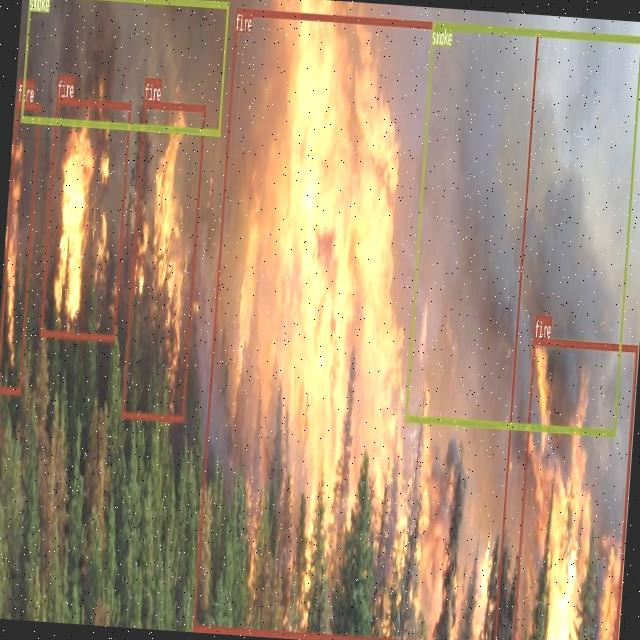fire: (192, 7, 538, 640), (512, 337, 637, 640), (121, 100, 205, 420), (40, 97, 130, 340), (0, 101, 40, 393)
smoke: (404, 21, 640, 435), (19, 0, 228, 134)
